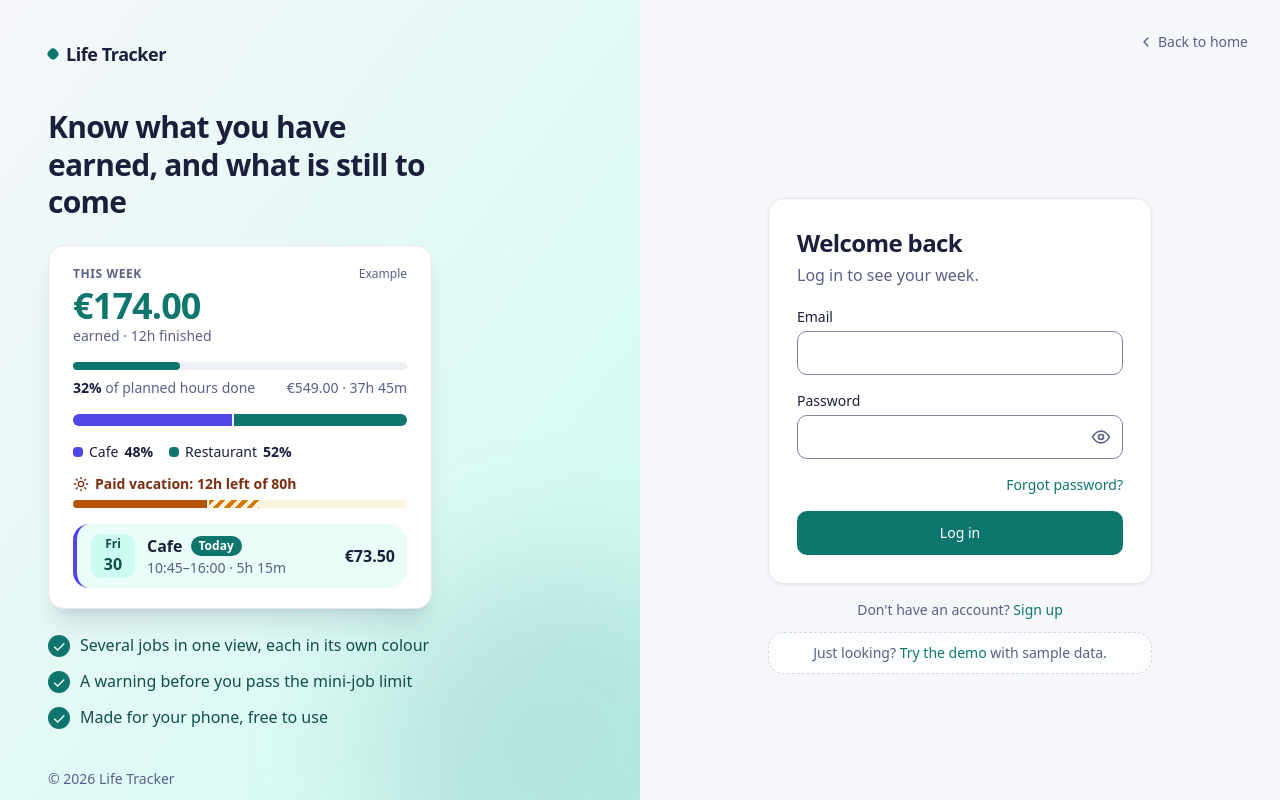
Test case: App routing for a logged-out visitor › takes the logo on the login page back to the landing page
The image size is (1280, 800).
Click the link "Life Tracker" at (106, 54), box x1=46 y1=42 x2=166 y2=66
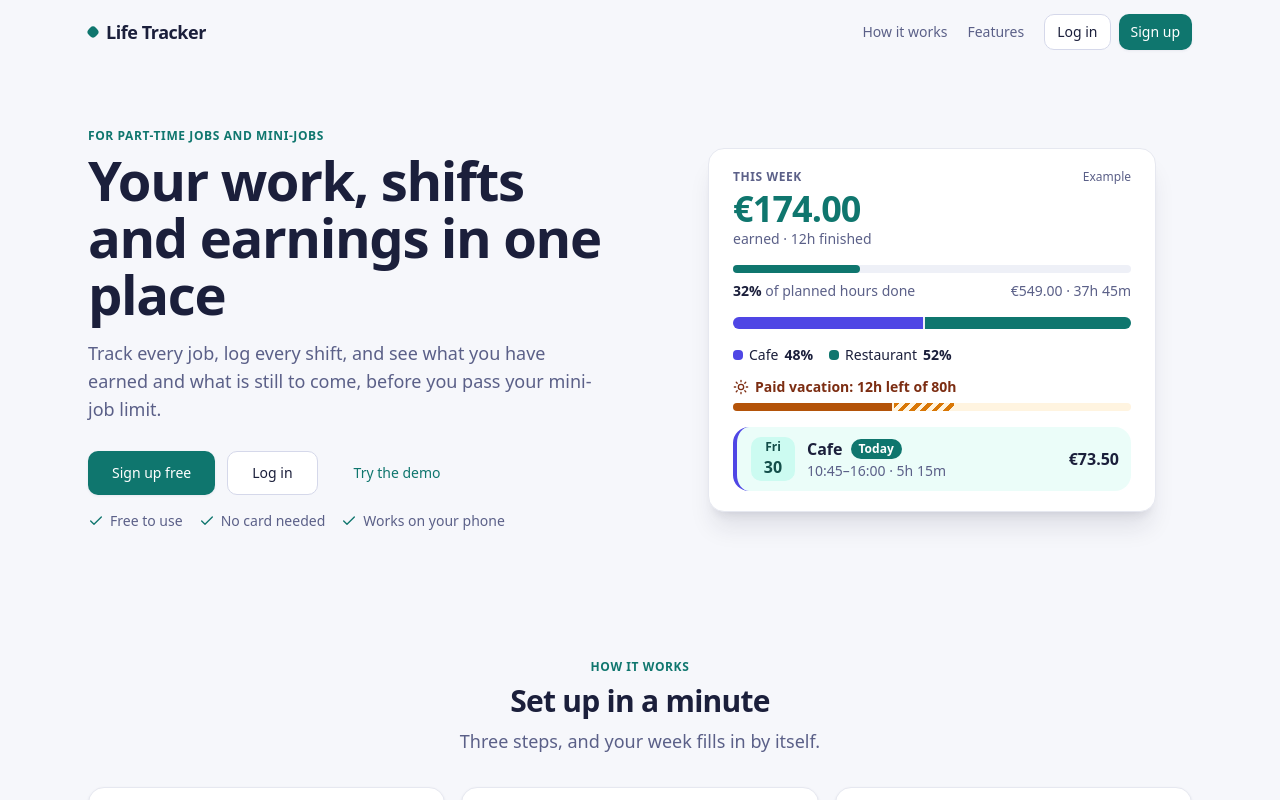
expect the heading "Your work, shifts and earnings in one place" is shown: met, box x1=88 y1=152 x2=608 y2=323
